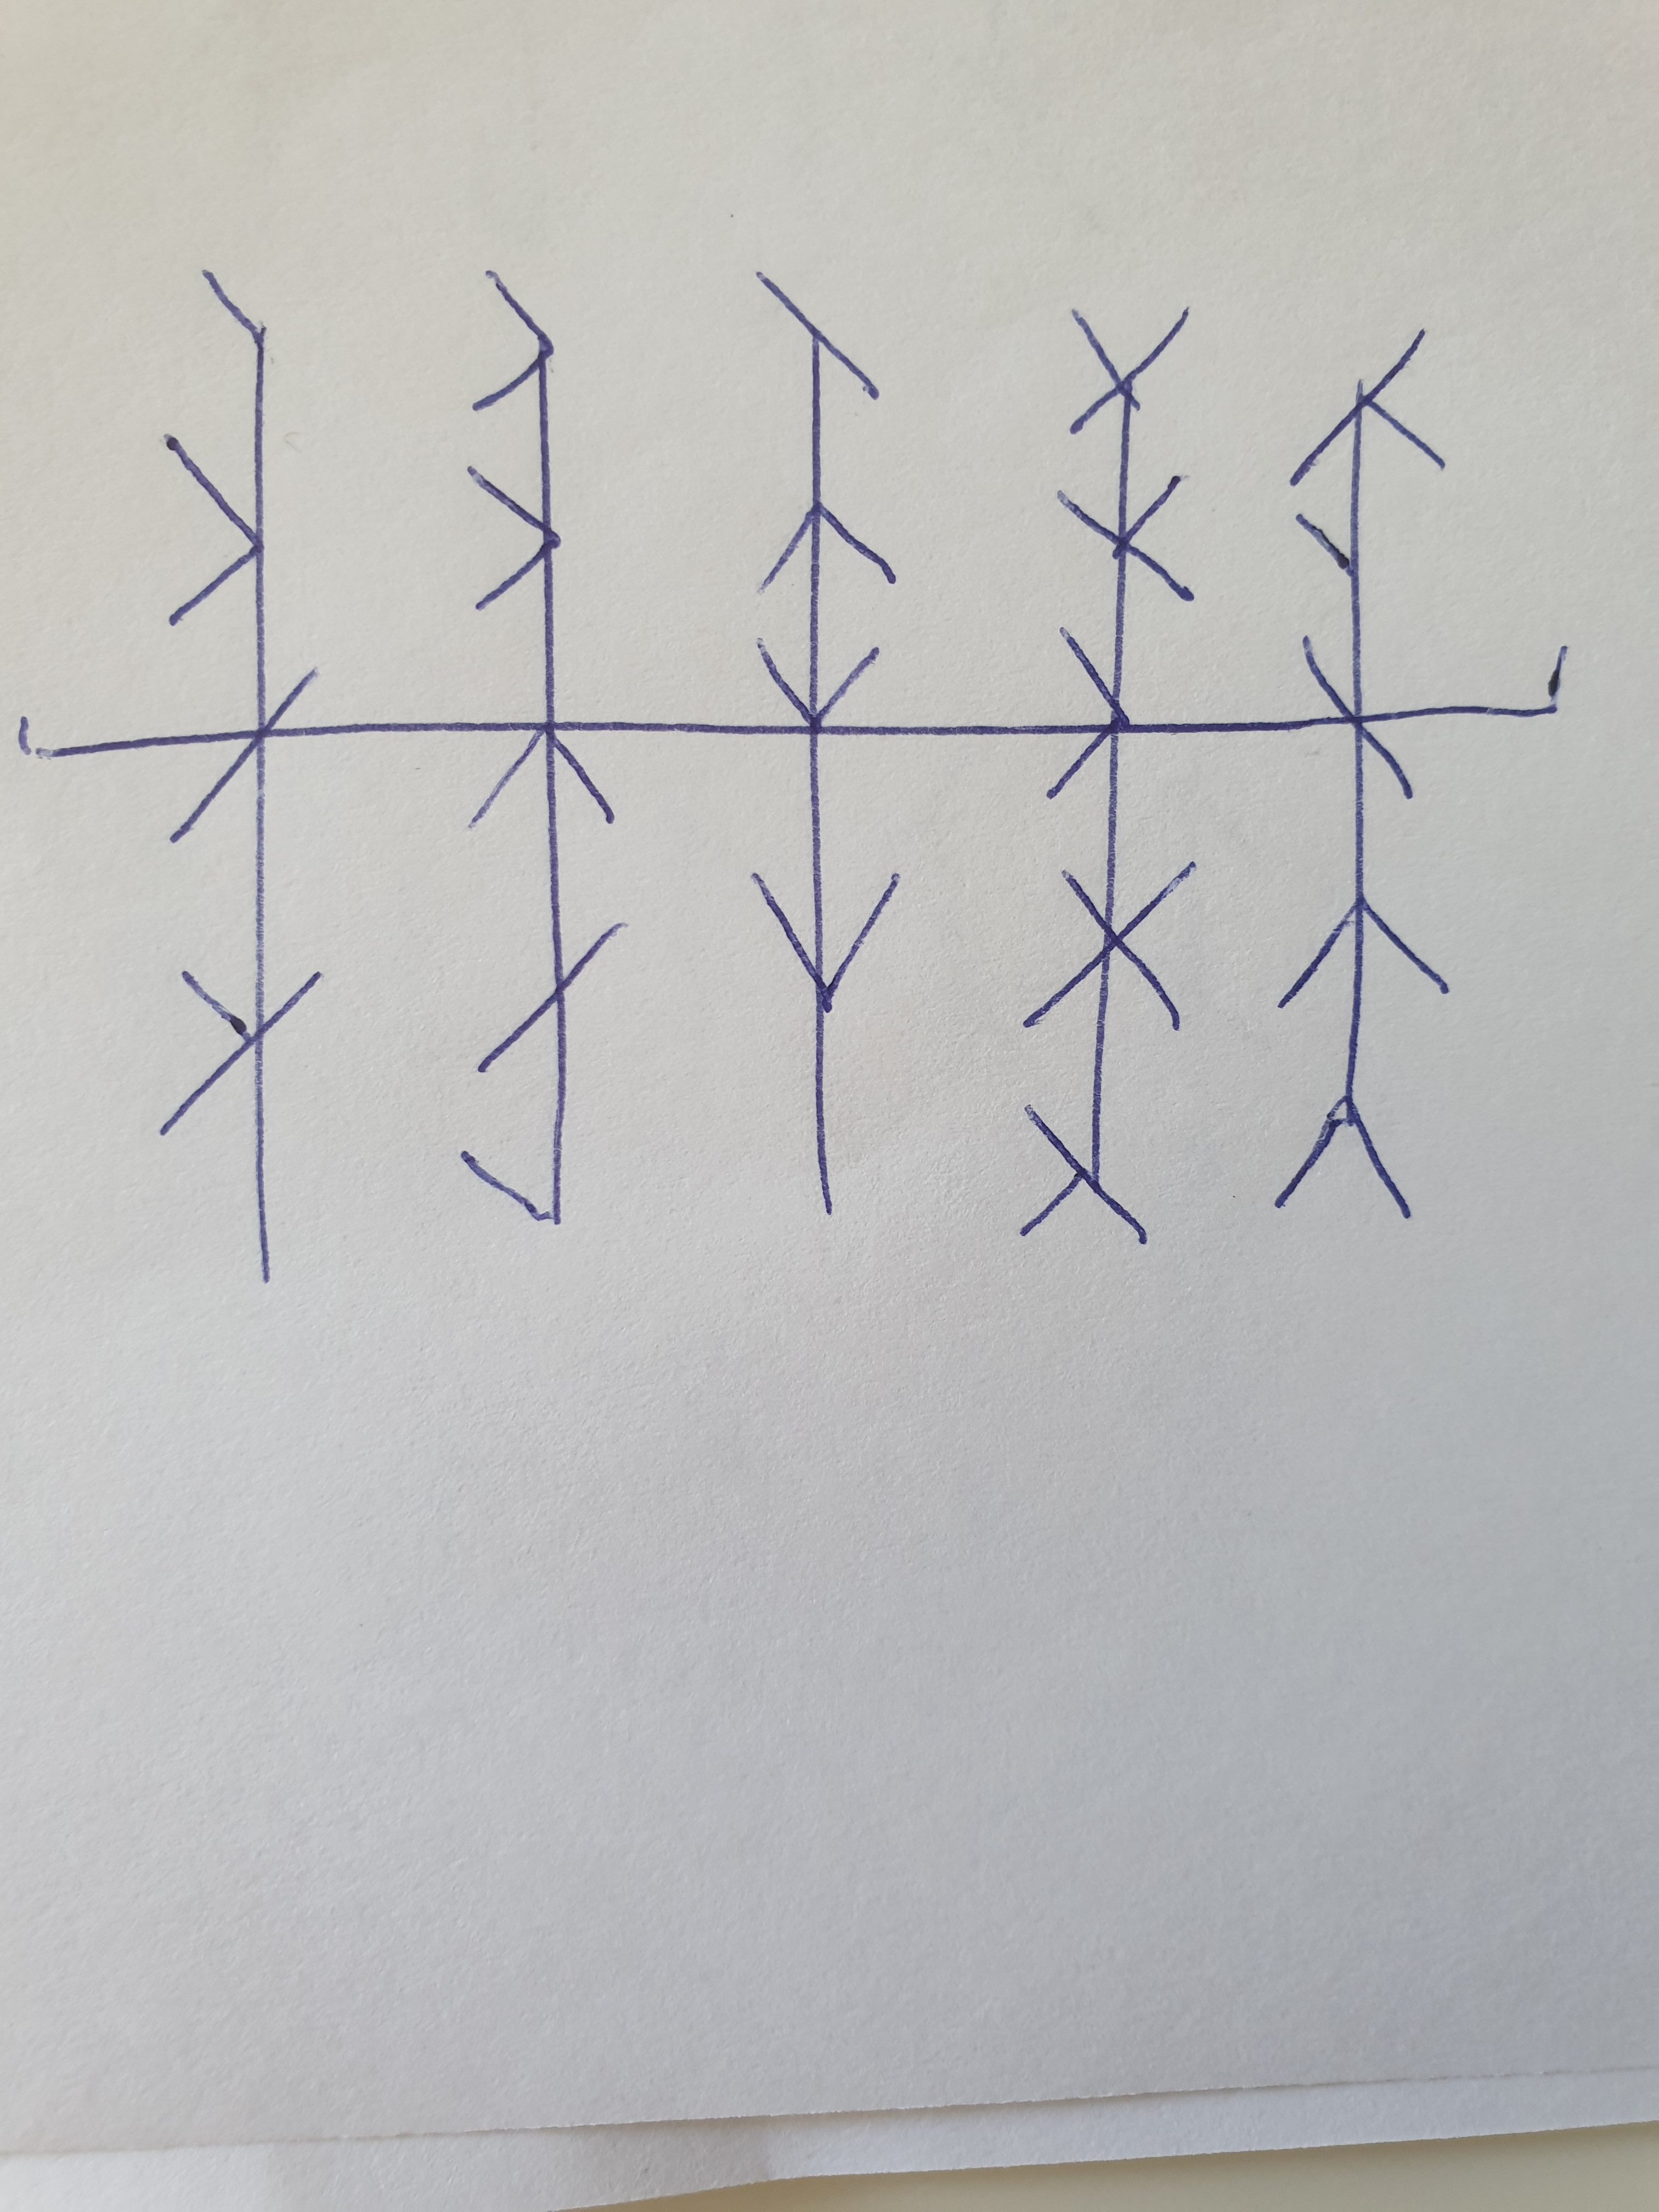Bar: (1019, 303, 1195, 1245), (164, 268, 322, 1282), (464, 270, 629, 1226), (1276, 327, 1452, 1217), (751, 270, 901, 1212)
Barcode: (19, 268, 1568, 1285)
End: (1368, 648, 1568, 723)
Start: (16, 714, 225, 765)
